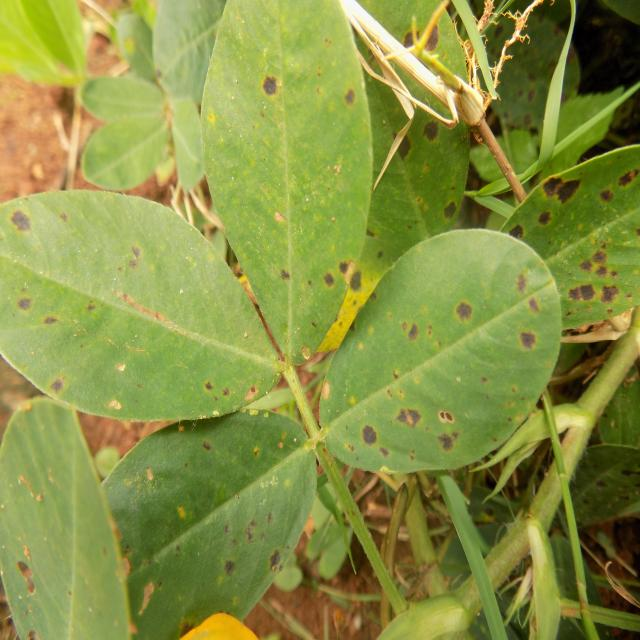Ground nut_tikka leaf spot: (6, 182, 286, 425), (206, 0, 374, 380), (318, 227, 553, 475), (67, 414, 320, 633), (493, 136, 640, 319)
